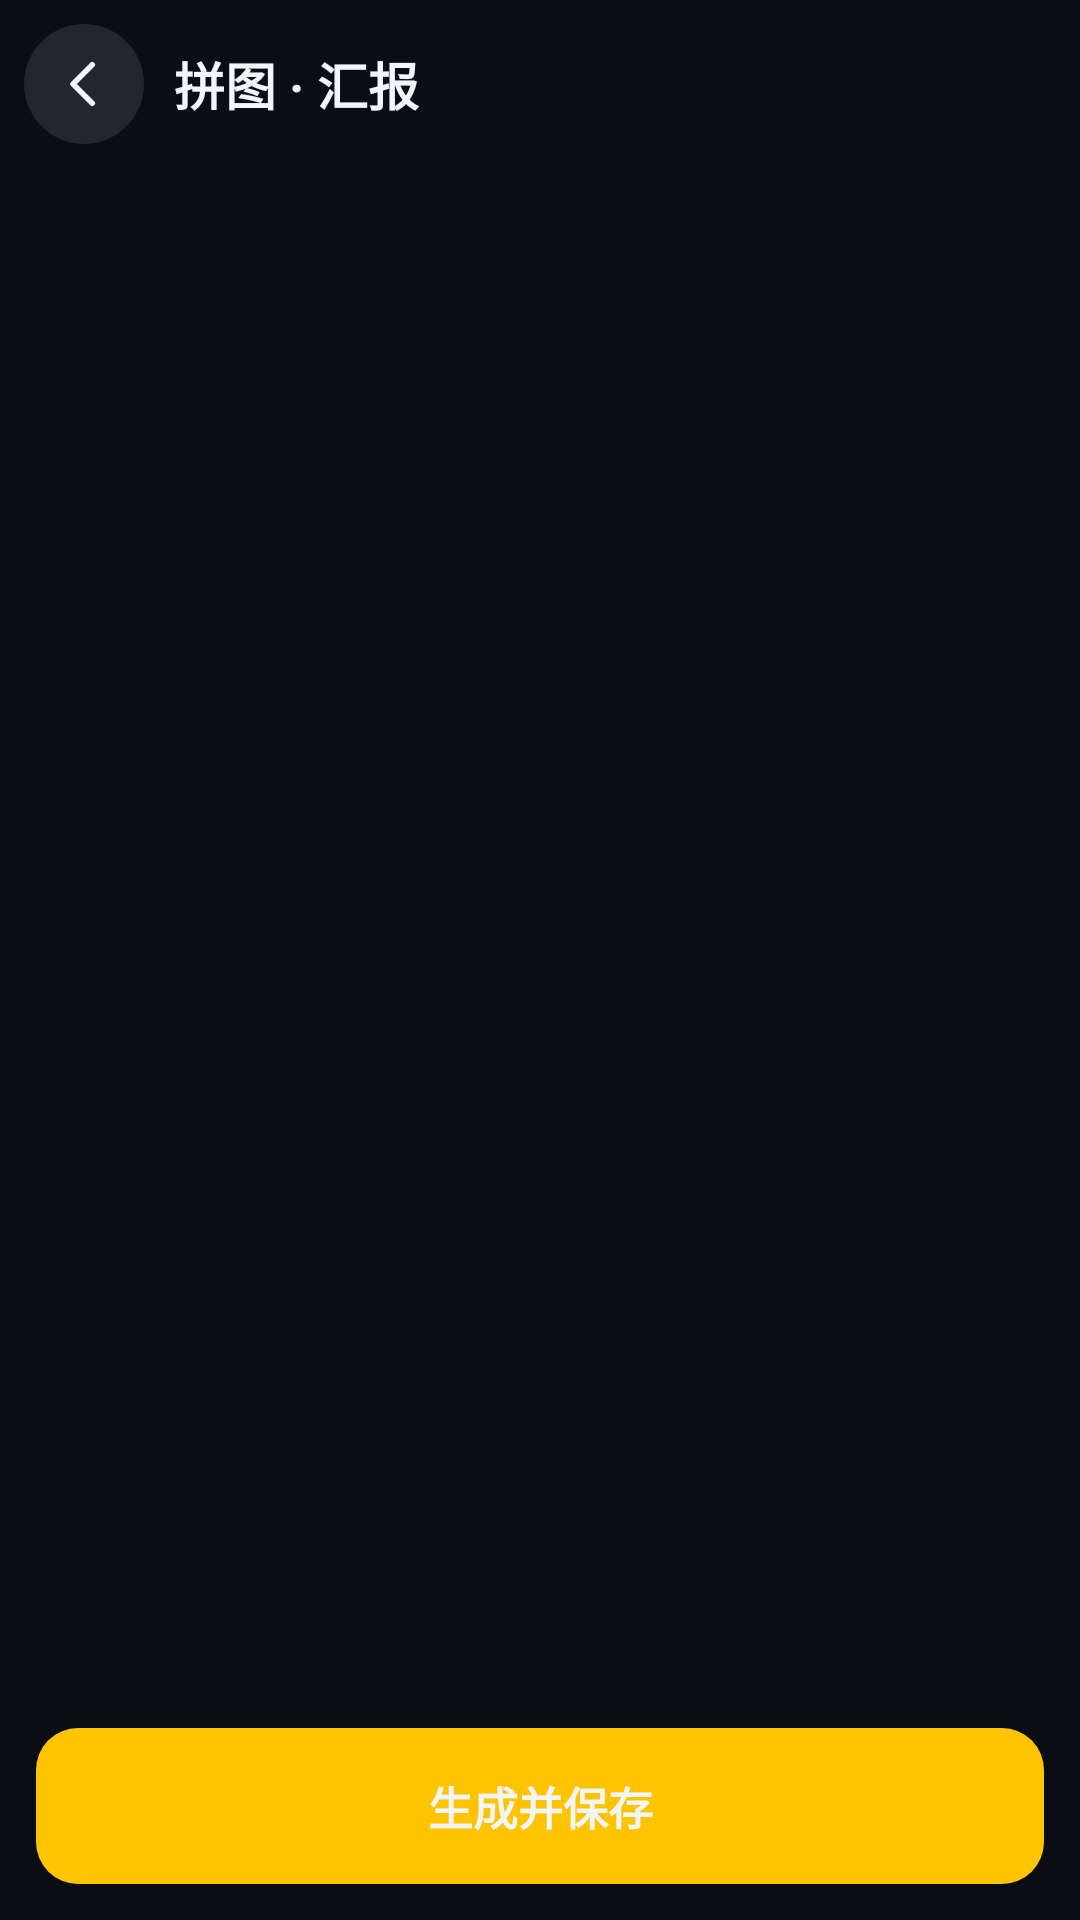

Locate icon controls on the screen. Image size 1080x1920, boxes as (x1, y1, x2, y2).
返回: (25, 24, 143, 144)
